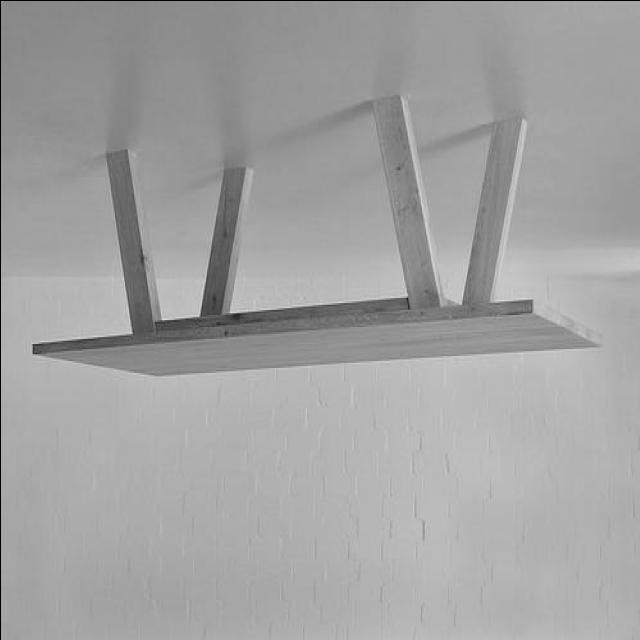table: (32, 91, 607, 385)
